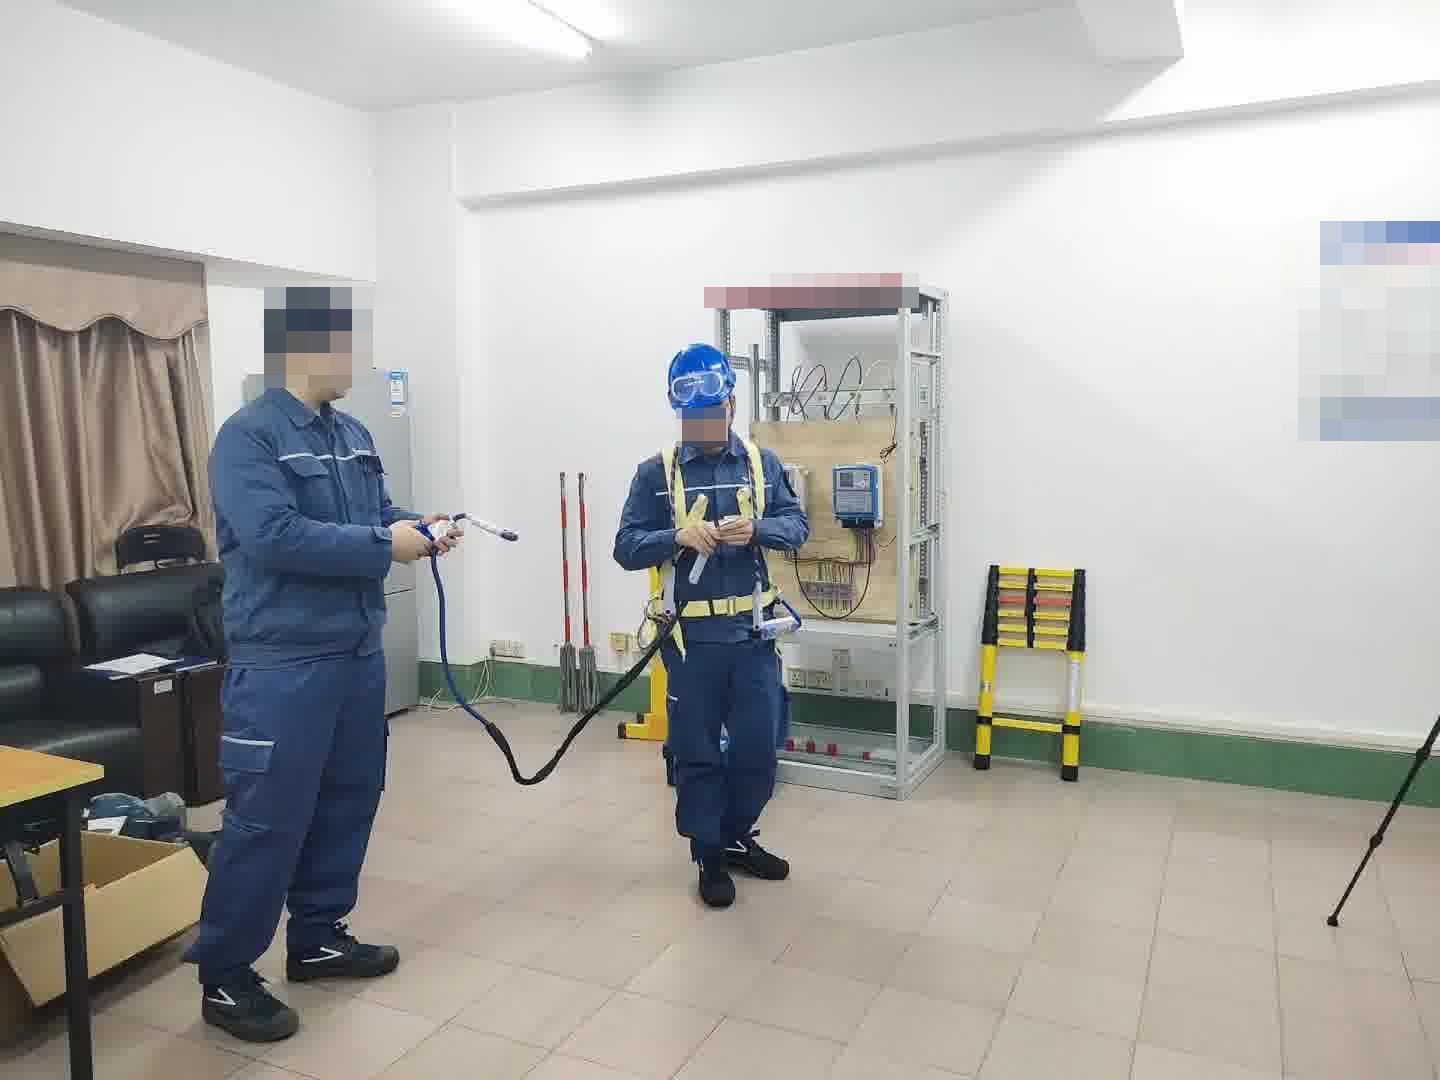downsuit: (198, 671, 392, 970), (662, 646, 788, 857)
halt: (667, 341, 741, 444)
hand: (392, 518, 440, 565), (673, 517, 718, 556), (718, 515, 754, 551)
noear: (284, 321, 333, 389)
person: (189, 287, 410, 1029), (612, 341, 812, 902)
safebelt: (633, 431, 803, 658)
unhalt: (262, 288, 367, 404)
upsuit: (204, 387, 402, 648), (613, 427, 810, 611)
